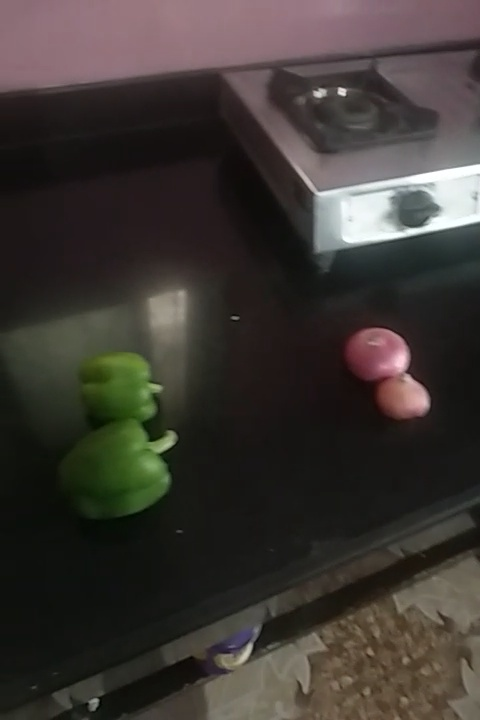capsicum: (44, 425, 182, 513), (78, 346, 169, 427)
onion: (347, 329, 417, 380), (379, 375, 428, 425)
